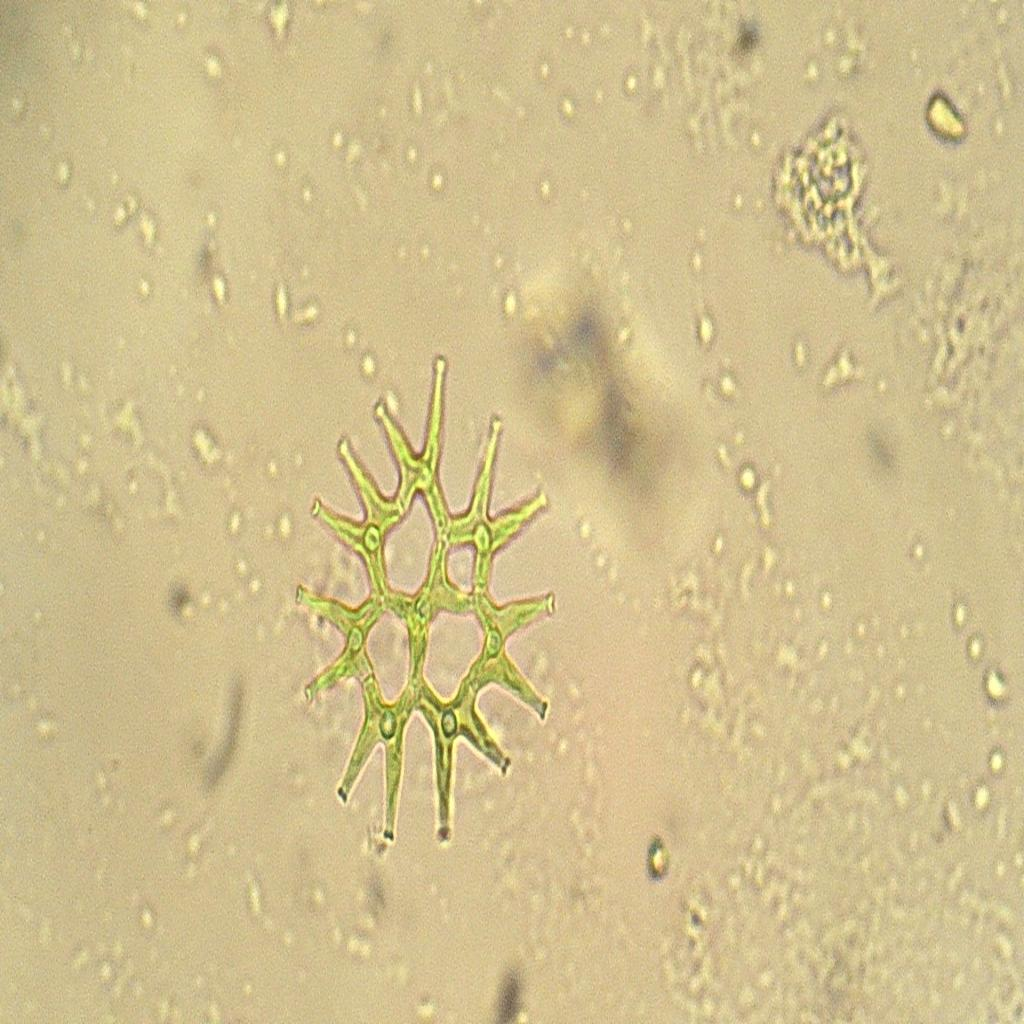Pediastrum_75T: (280, 338, 574, 870)
